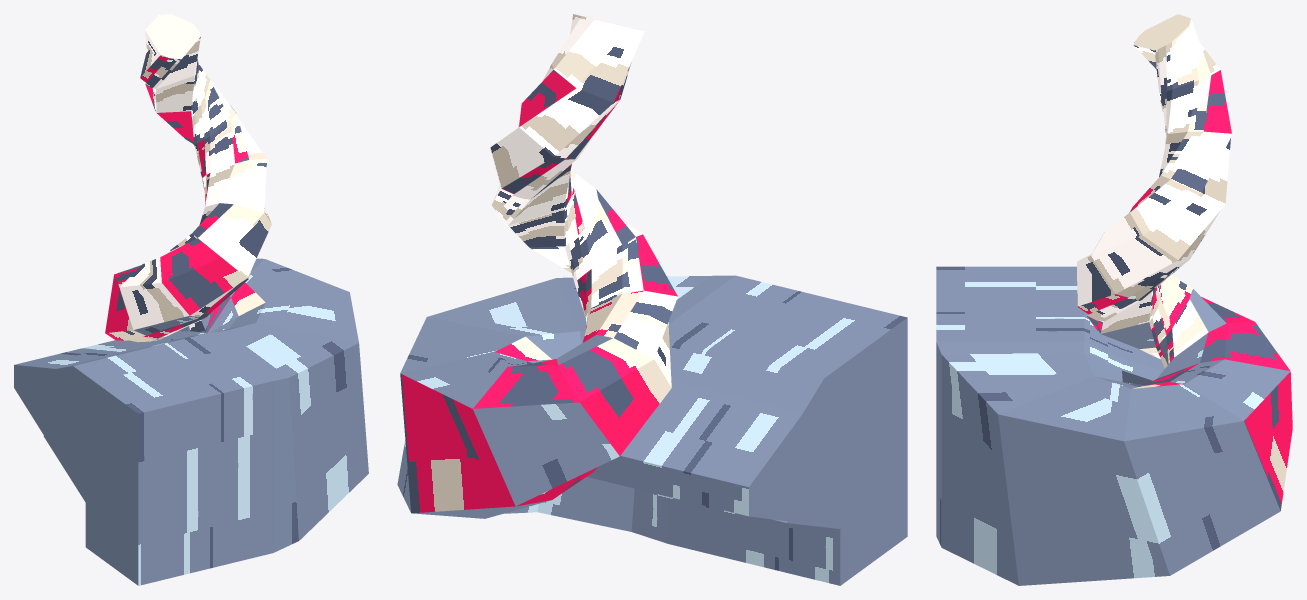
The model's file is NIE-04_Moldura_tomada.gltf.
The picture shows the model from 3 angles, left to right: view 1: azimuth 30°, elevation 25°; view 2: azimuth 150°, elevation 25°; view 3: azimuth 270°, elevation 25°; orthographic projection. The views are drawn at different scales.
Parts seen in each view (by area): view 1: NIE-04_Moldura_tomada-col; view 2: NIE-04_Moldura_tomada-col; view 3: NIE-04_Moldura_tomada-col.
Part boxes in pixels (x1,y1,x2,y2): NIE-04_Moldura_tomada-col: [14, 14, 368, 585]; NIE-04_Moldura_tomada-col: [397, 14, 907, 585]; NIE-04_Moldura_tomada-col: [936, 14, 1292, 585].
Bounding box in the file's own units: 0.8129 × 1.19 × 0.7462.
Materials: 1 (1 with a texture image).
